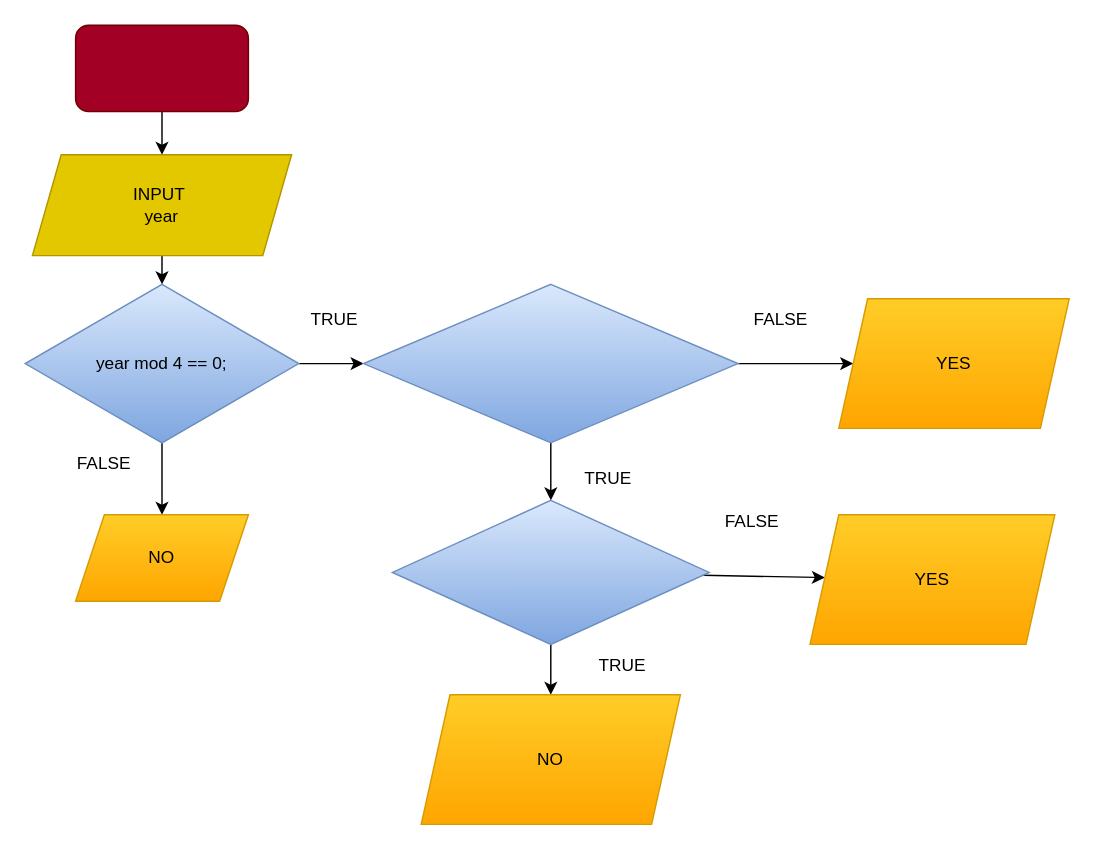
Some shapes in this 1094 by 850 pixel diagram are drawn without their labels. Here are the shapes that lost their labels. From the top down, the centre of each, then its label:
At point (161, 68): "Year".
At point (550, 363): "year mod 100 == 0".
At point (550, 571): "year mod 400 !== 0".
